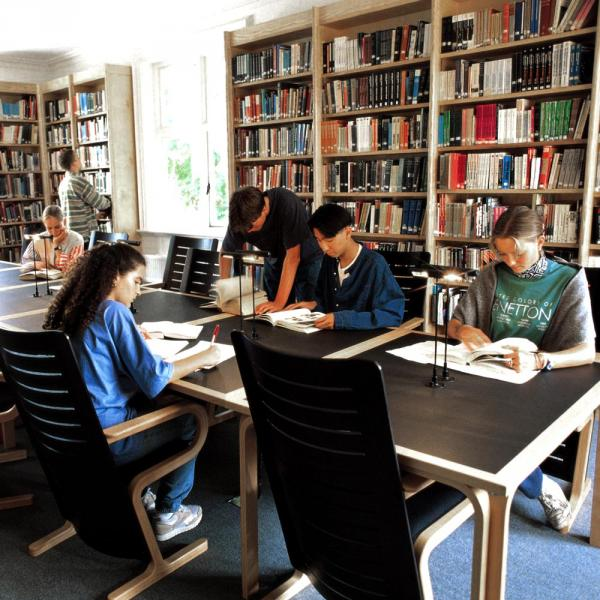students: (42, 243, 221, 541), (446, 207, 598, 531), (283, 203, 404, 329), (222, 185, 325, 314), (57, 148, 110, 248), (20, 203, 84, 276)
